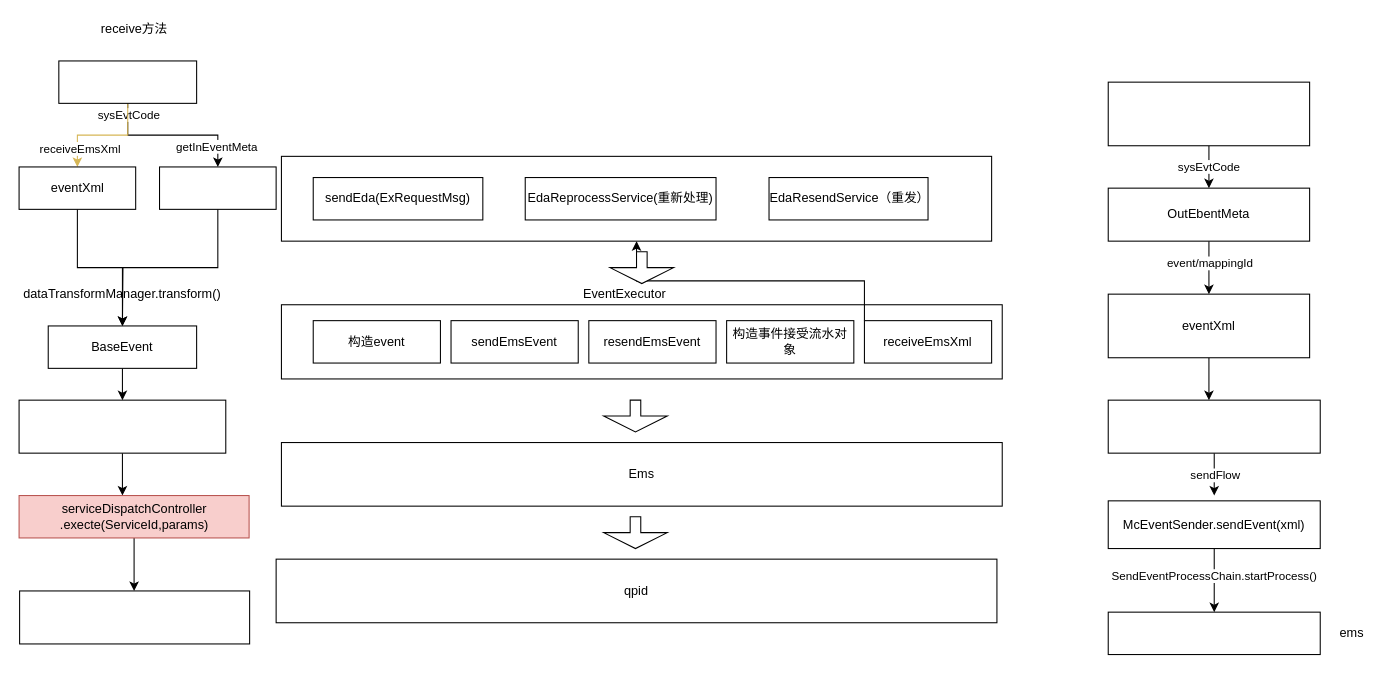
Image size: 1391x673. Some labels were removed from this diagram. The shapes that lost their labels are listed below. From the top down, each one's centre as x and y in pixels, then its label:
point 127,81: EdaReceiver
point 1208,113: DefaultEventExecutor.sendEvent (sysEvtCode,EventBody)
point 217,187: InEvent
point 122,426: EmsEventHandler.handleEmsEvent
point 1213,426: 构造EdaSendFlowPo
point 134,617: 记录recvFlow
point 1213,633: connecton.sendMsg()
